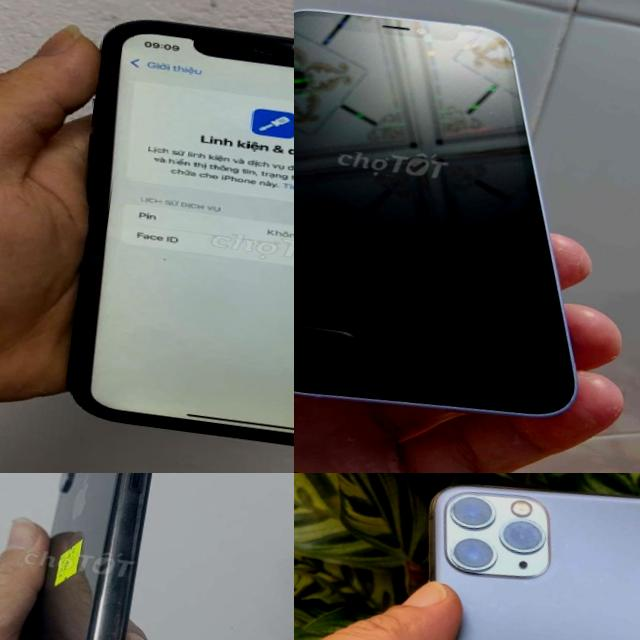gen_11: (430, 485, 640, 640)
gen_12_13: (294, 0, 640, 442)
gen_x_xs: (38, 8, 294, 471), (27, 473, 151, 640)
